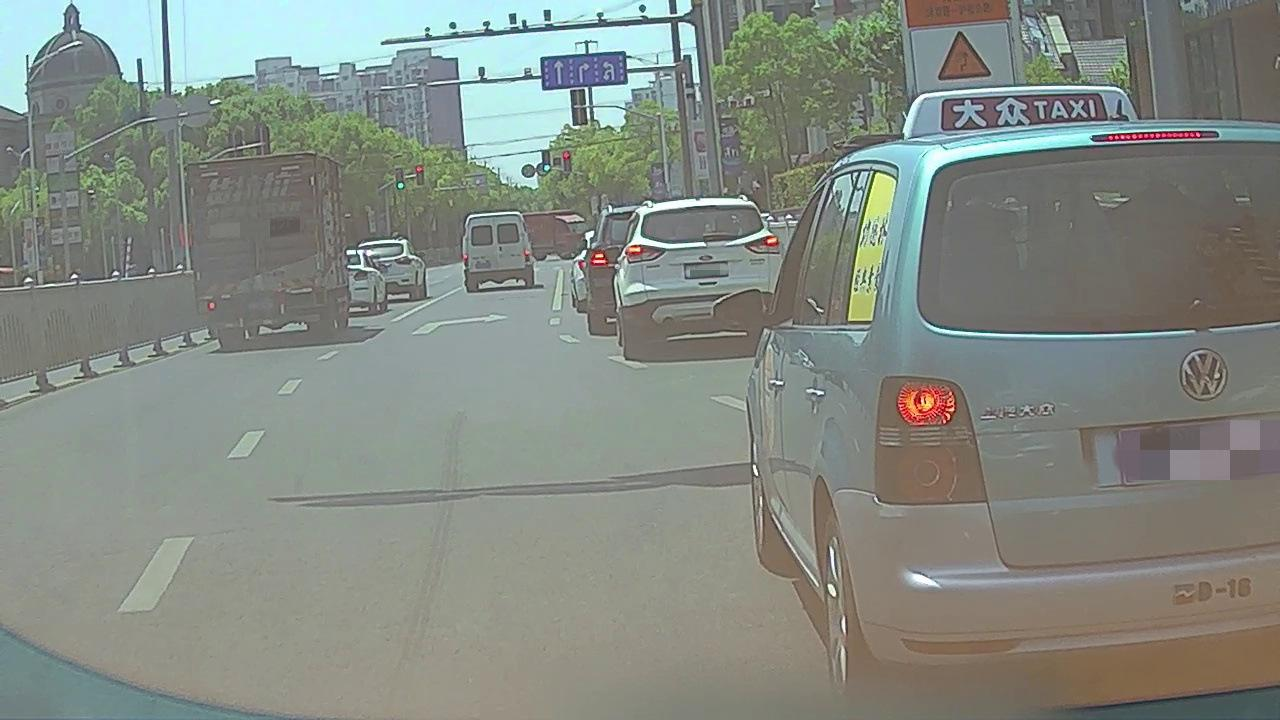traffic_light: (395, 168, 405, 190), (562, 152, 572, 172), (542, 151, 551, 172), (415, 165, 424, 185)
